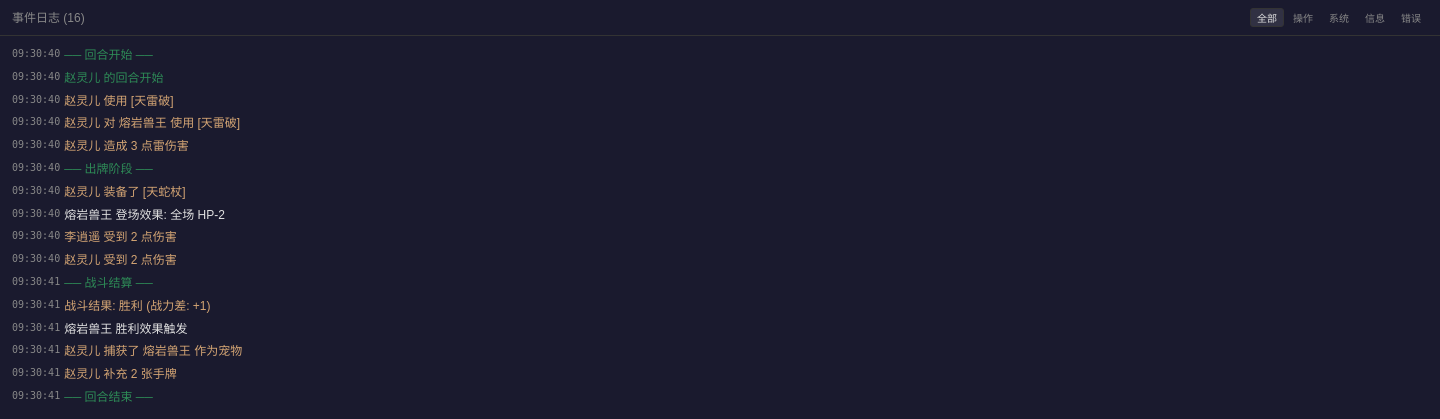
EventLog › filtering › should filter to action entries only
Click the button "操作" at (1303, 18), box [1286,8,1320,27]
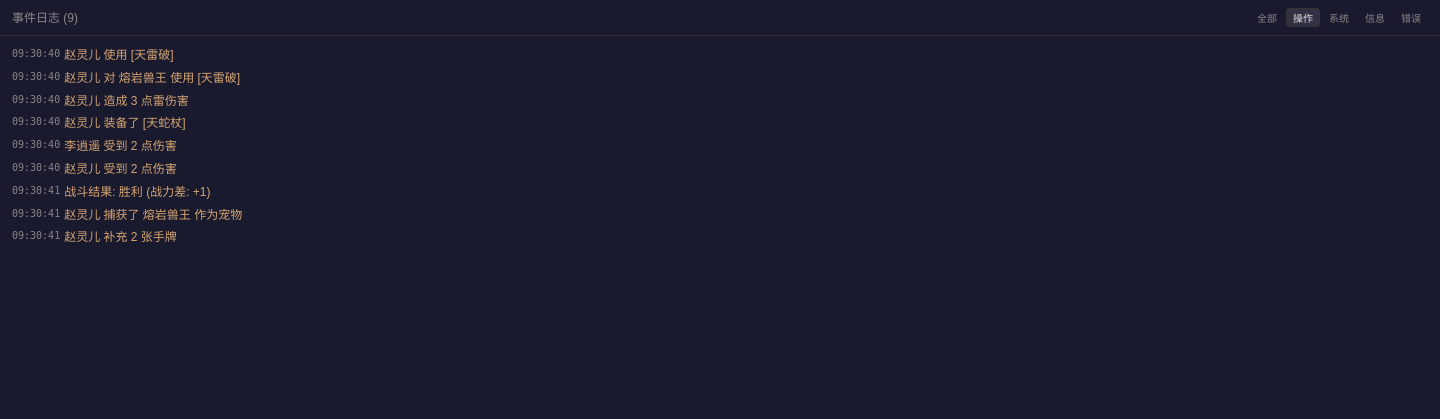
Expected: the text "赵灵儿 使用 [天雷破]" is shown, [64,47,174,64]
Expected: the text "── 回合开始 ──" is gone
Expected: the text "熔岩兽王 登场效果: 全场 HP-2" is gone
